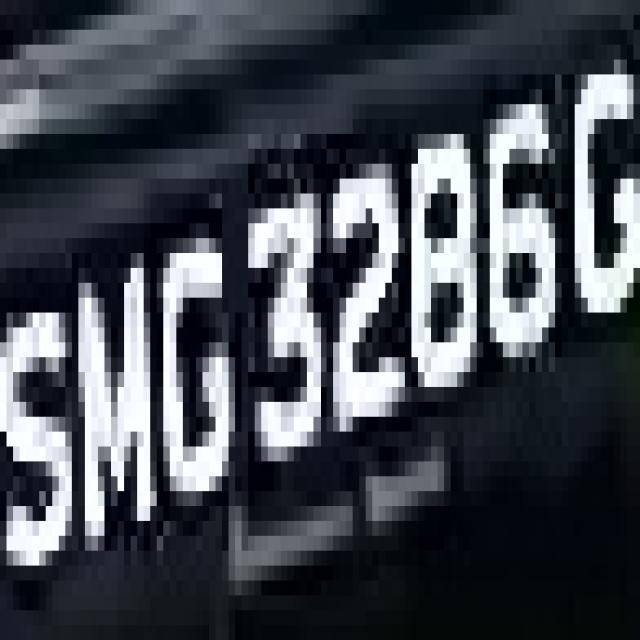2: (320, 149, 411, 446)
3: (242, 149, 320, 506)
6: (470, 89, 555, 387)
8: (398, 89, 477, 432)
G: (144, 149, 228, 551), (5, 1, 6, 9)
M: (53, 223, 164, 566)
S: (6, 253, 72, 595)
